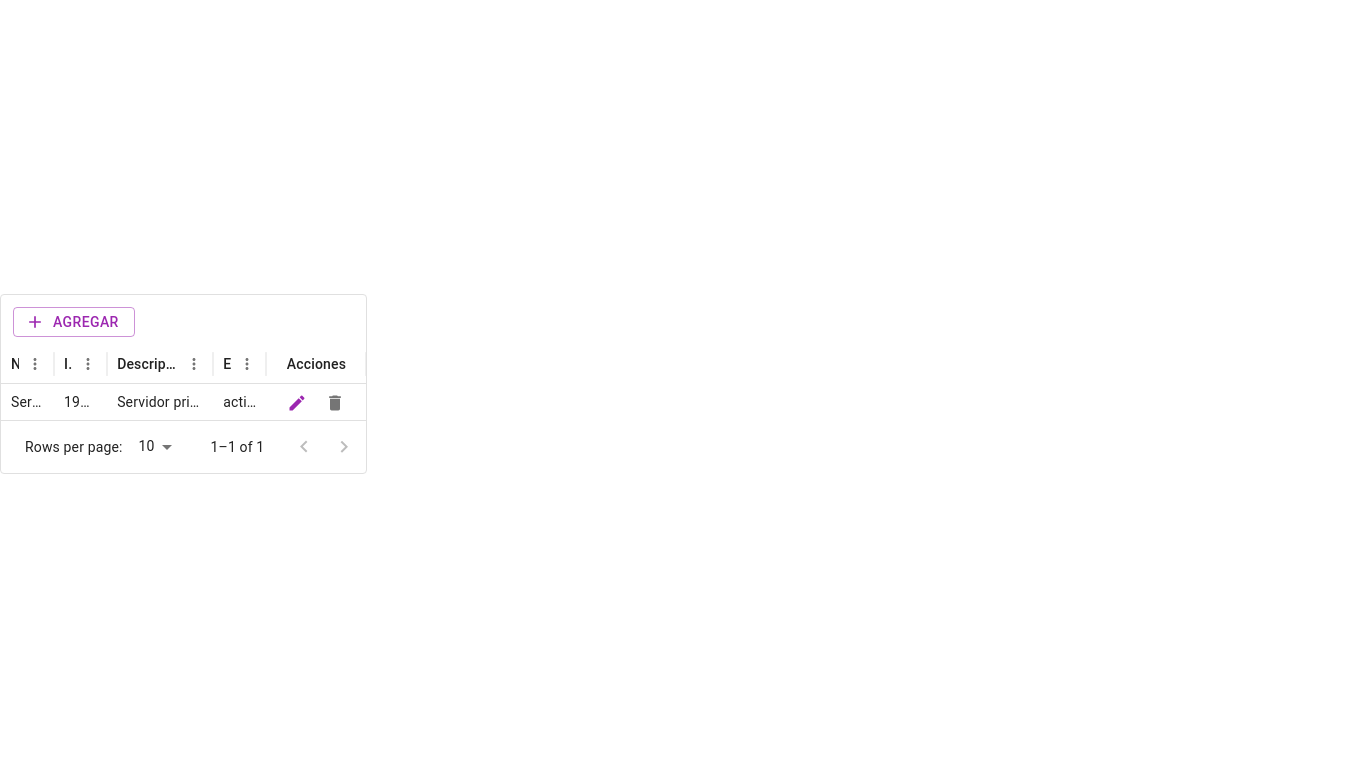
AssetDataGrid Component › debe abrir el diálogo al hacer clic en 'Agregar'
Note: Hacer clic en el botón 'Agregar'
Click the button "Agregar" at (74, 322), box left=13, top=307, right=135, bottom=337
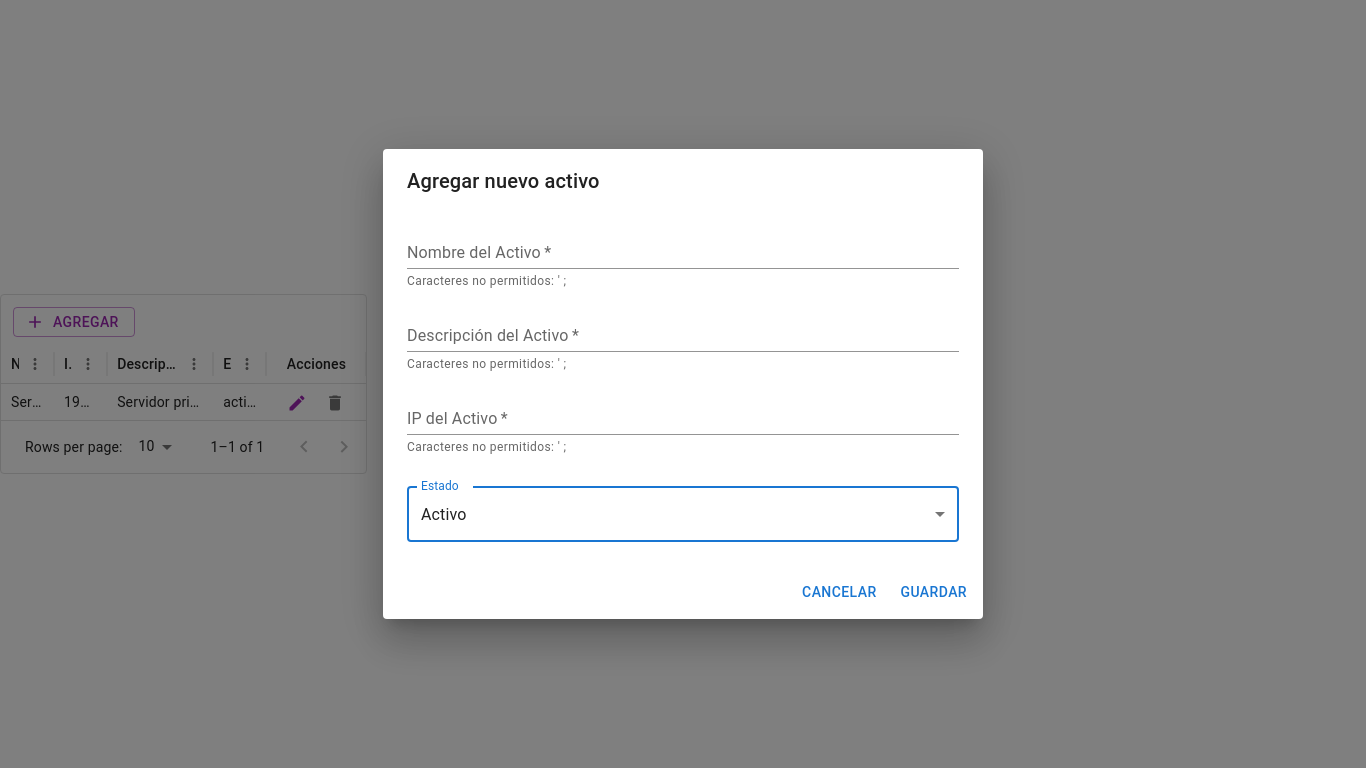
Expected: the heading "Agregar nuevo activo" is shown, left=407, top=169, right=600, bottom=193
